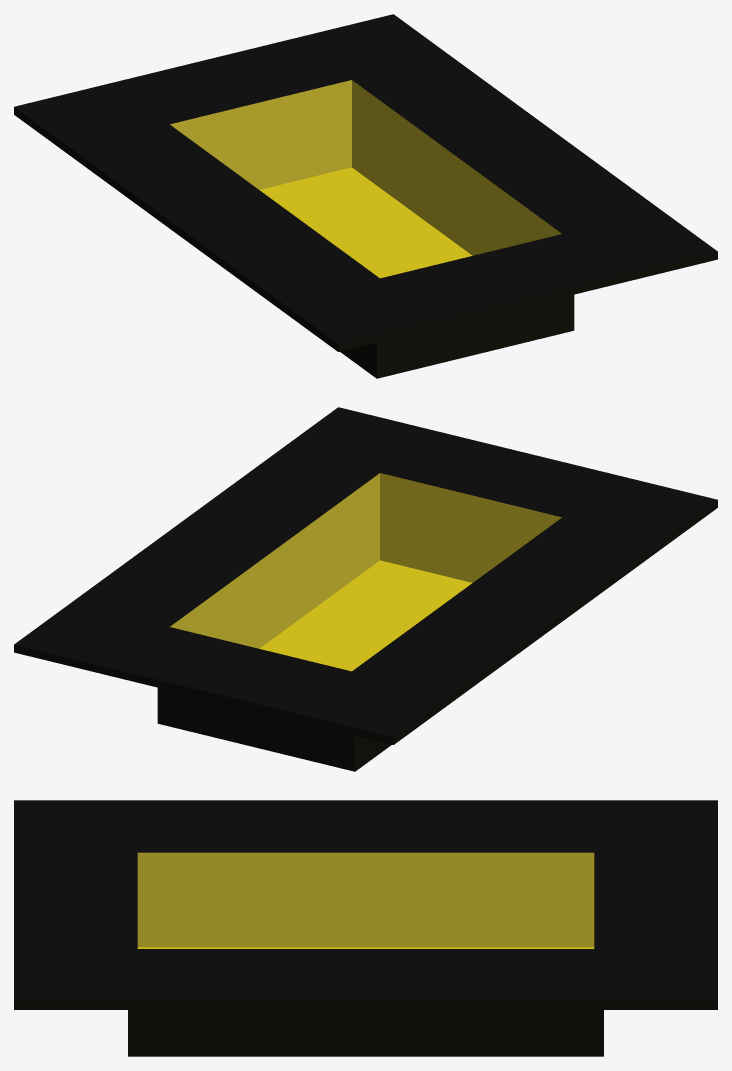
Rendered from BIN.color.dae.
3 renders of one model, top to bottom at view 1: azimuth 30°, elevation 25°; view 2: azimuth 150°, elevation 25°; view 3: azimuth 270°, elevation 25°, orthographic. The views are drawn at different scales.
Visible parts, largest first — view 1: BIN; view 2: BIN; view 3: BIN.
Boxes of the visible parts, box(x1,y1,x2,y2) form: BIN: box(14, 14, 717, 378); BIN: box(14, 407, 717, 771); BIN: box(14, 800, 717, 1056).
Bounding box in the file's own units: 63.5 × 93.98 × 15.24.
